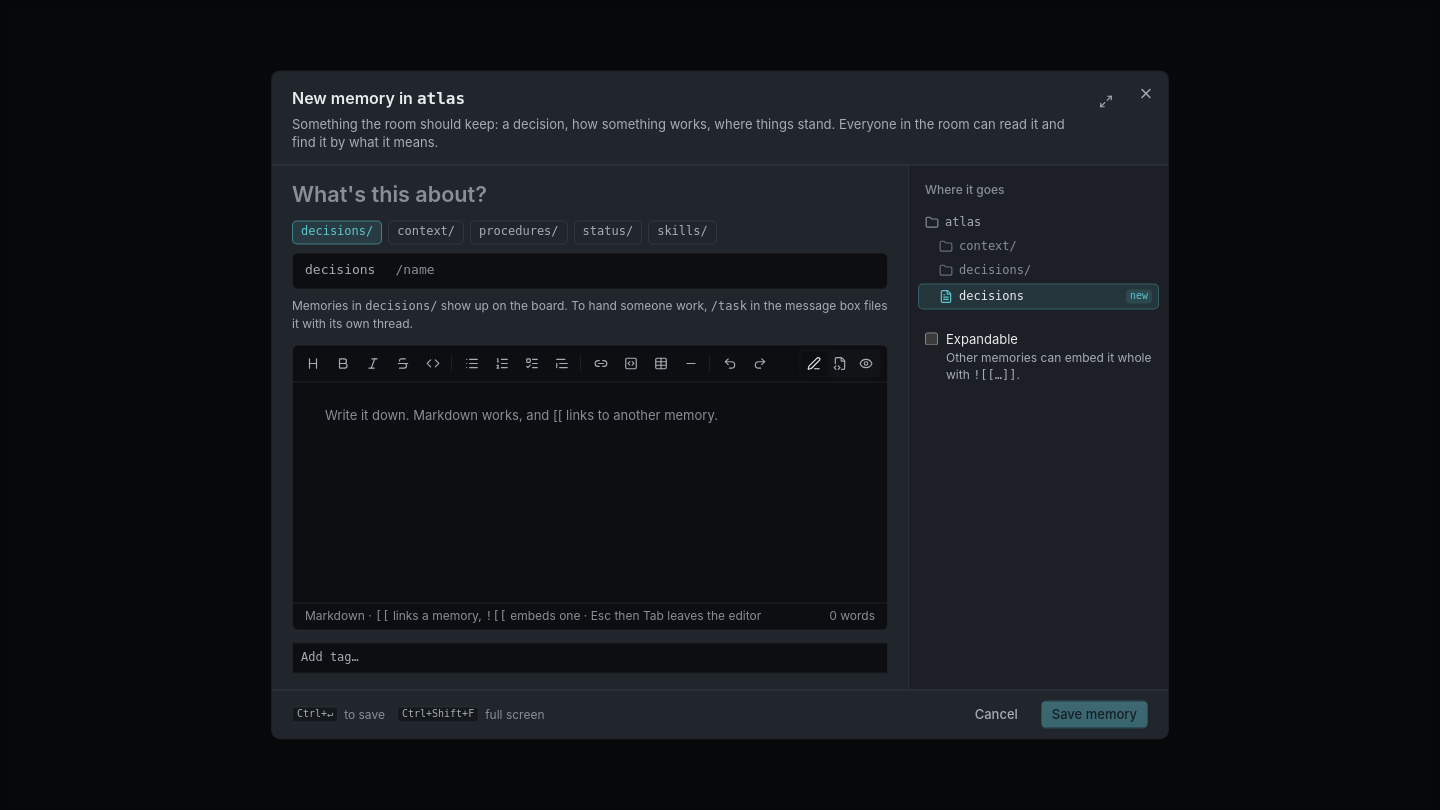
Scenario: <NewMemoryDialog /> › names the memory from its title and shows where it will sit
The image size is (1440, 810).
In the field named "Title": (590, 195) [292, 181, 888, 208], type "Use a queue for retries"
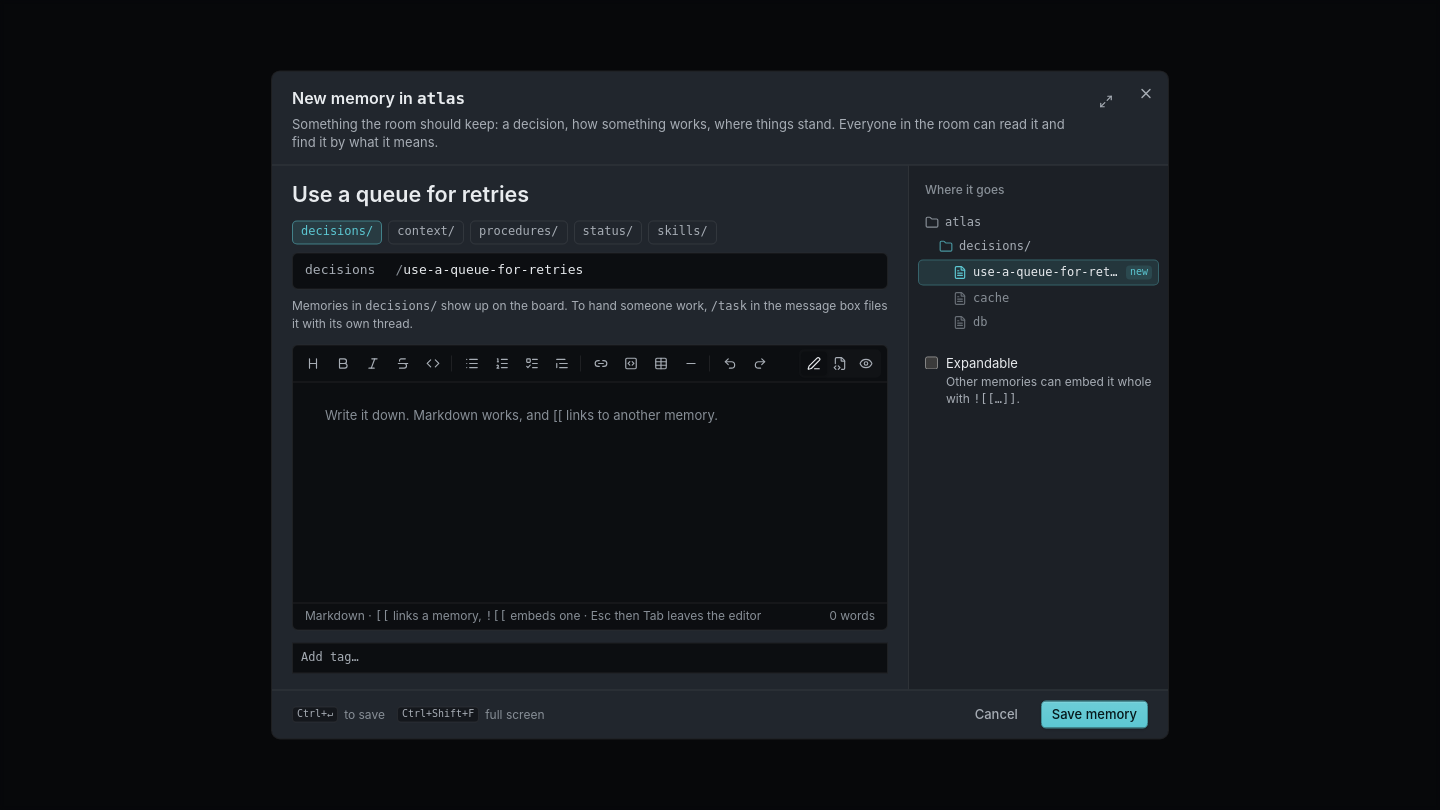
Result: the field named "name" holds "use-a-queue-for-retries" at [403, 253, 887, 288]
Result: the text "use-a-queue-for-retries" is shown at [973, 264, 1120, 281]
Result: the text "cache" is shown at [973, 290, 1009, 307]
